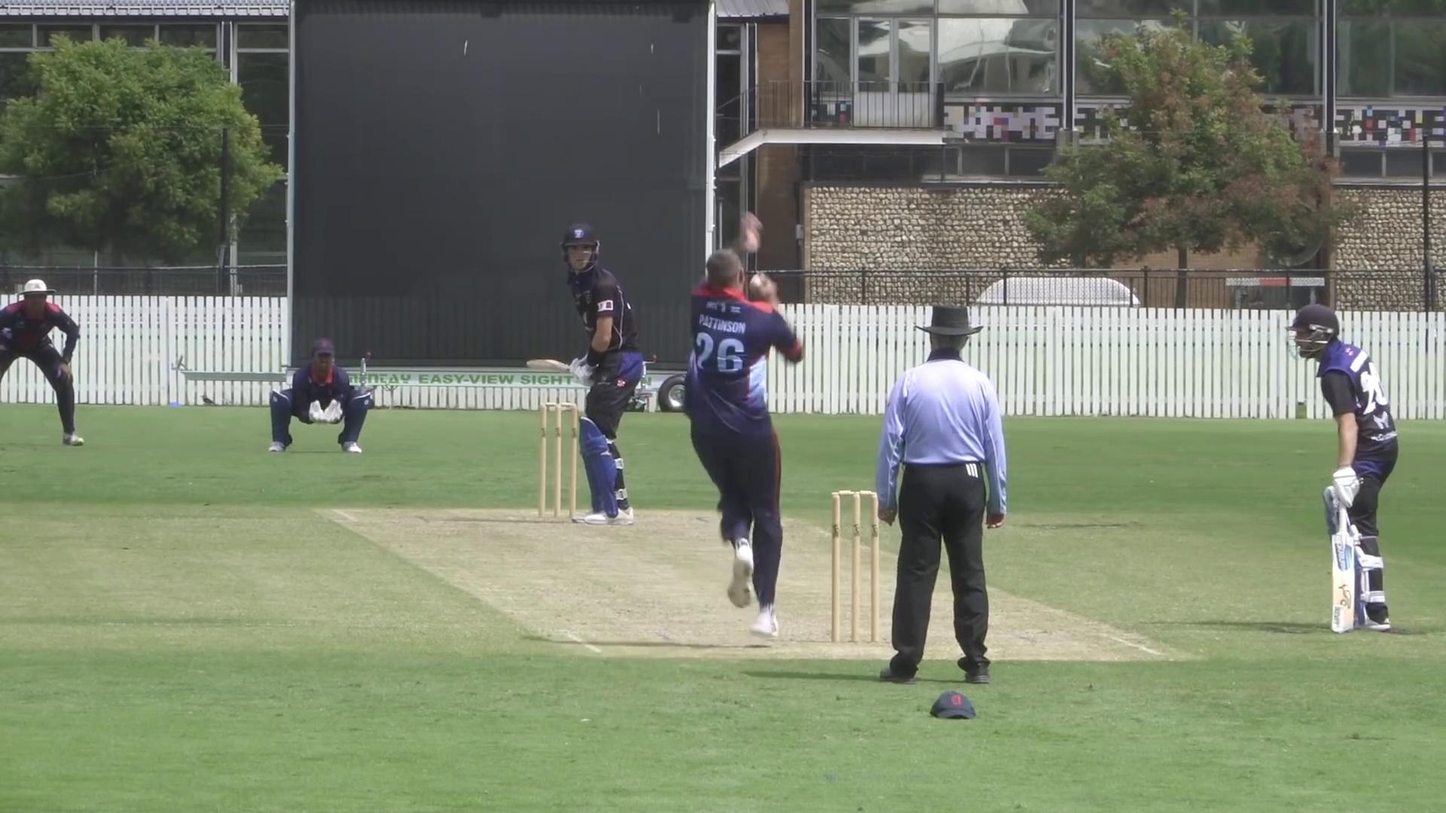ball: (746, 269, 772, 296)
